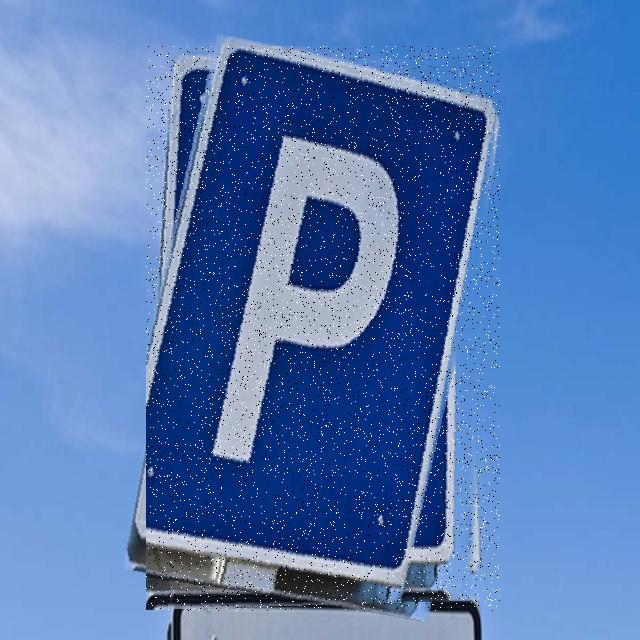parking: (146, 46, 500, 611)
